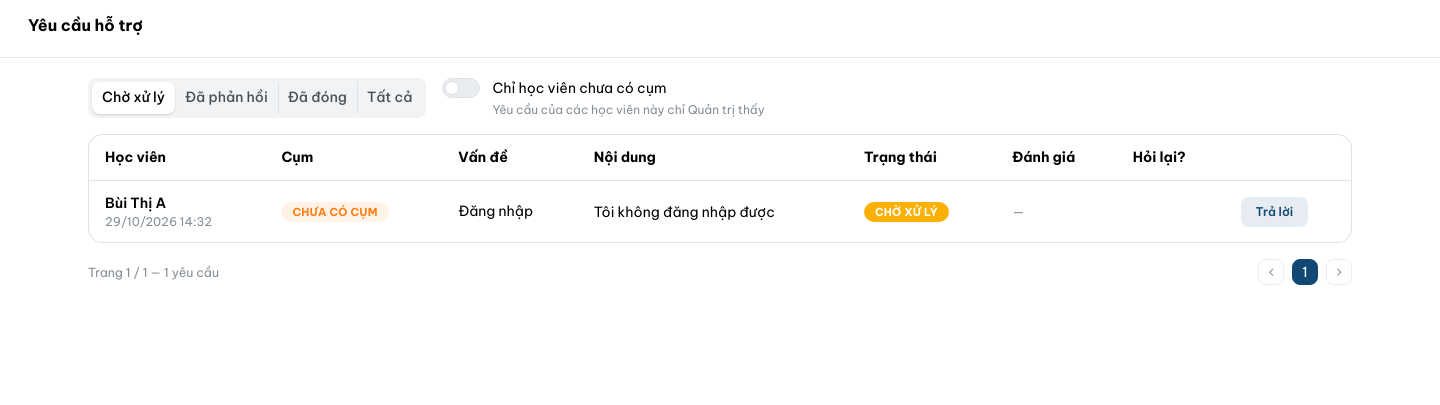
Test: AdminYeuCauHoTro (M8) › trả lời ticket -> ticket biến mất khỏi danh sách chờ xử lý
The width and height of the screenshot is (1440, 405).
Expected: the text "Tôi không đăng nhập được" is shown, left=594, top=203, right=775, bottom=221
Click the button "Trả lời".
click(1274, 212)  # box left=1240, top=197, right=1308, bottom=227
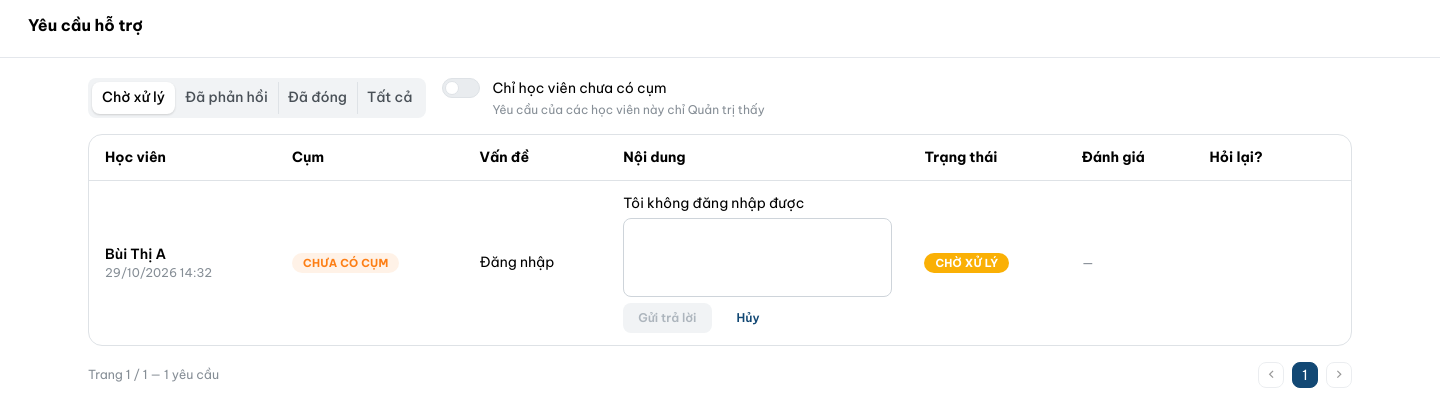
Type "Thầy/Cô thử đặt lại mật khẩu." into the text box named "nội dung trả lời".
click(758, 257); type("Thầy/Cô thử đặt lại mật khẩu.")  # box left=623, top=218, right=892, bottom=297
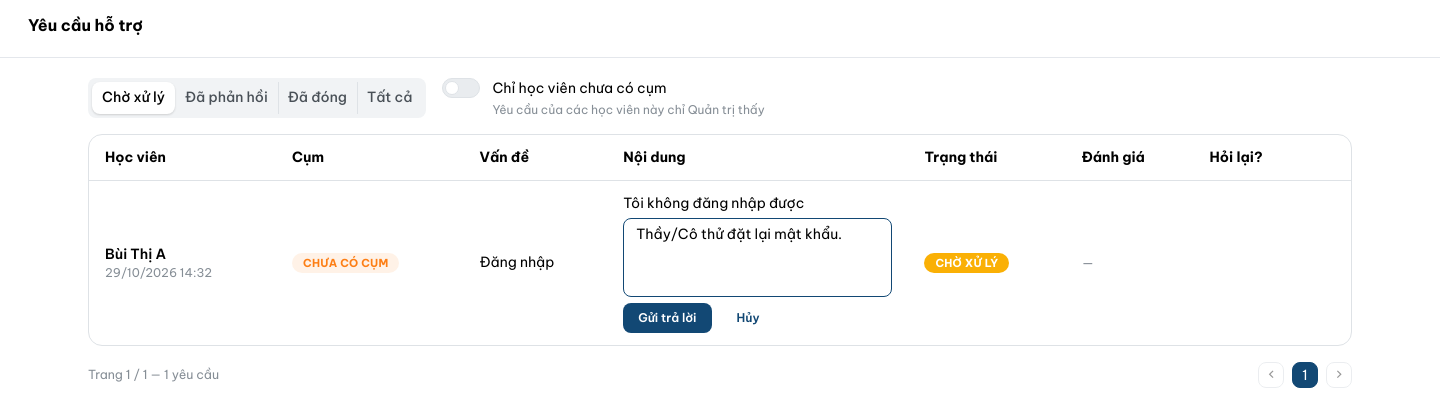
Click the button "Gửi trả lời".
click(667, 318)  # box left=623, top=303, right=712, bottom=333
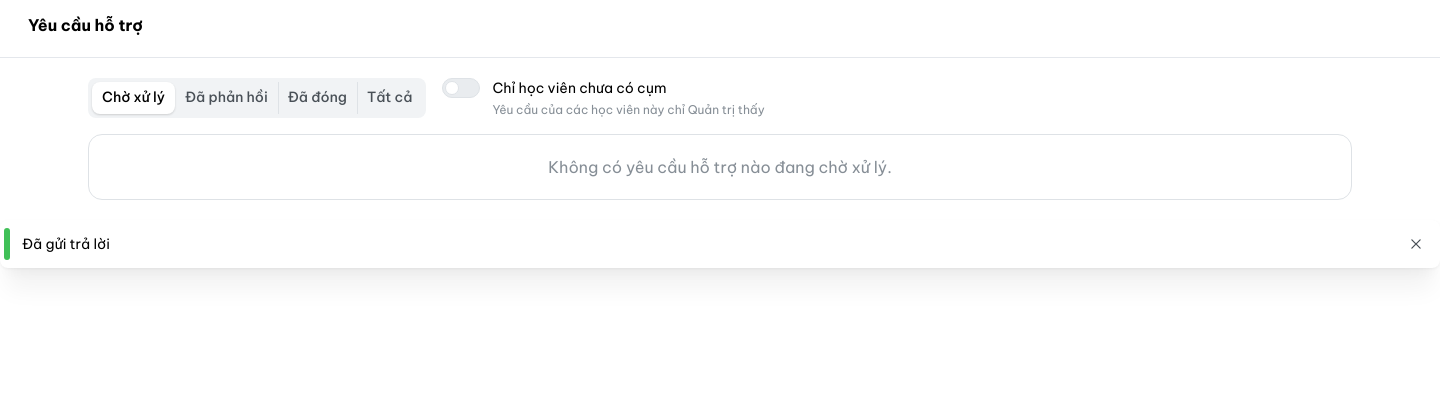
Now the text "Tôi không đăng nhập được" is gone
